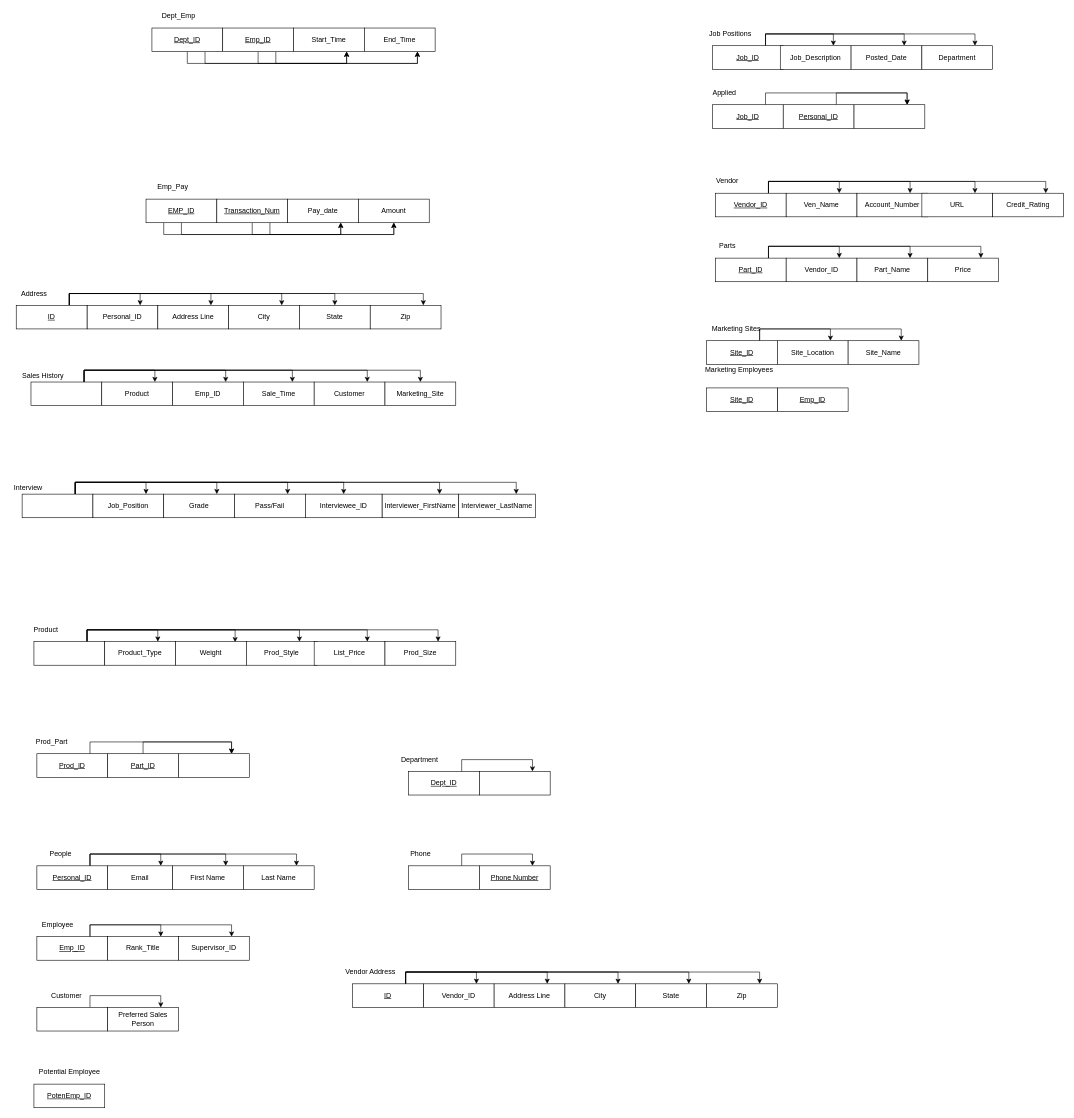
This 1074x1118 diagram has some shape labels left out. The centre of each missing label's shape, as x and y in pixels:
"Applied_Date" belongs at (889,116).
"Cust_ID" belongs at (72,1019).
"Dept_Name" belongs at (514,783).
"Interview_ID" belongs at (57,506).
"Num_Parts" belongs at (213,765).
"Person_ID" belongs at (443,877).
"Product_ID" belongs at (69,653).
"Sales_ID" belongs at (66,393).
